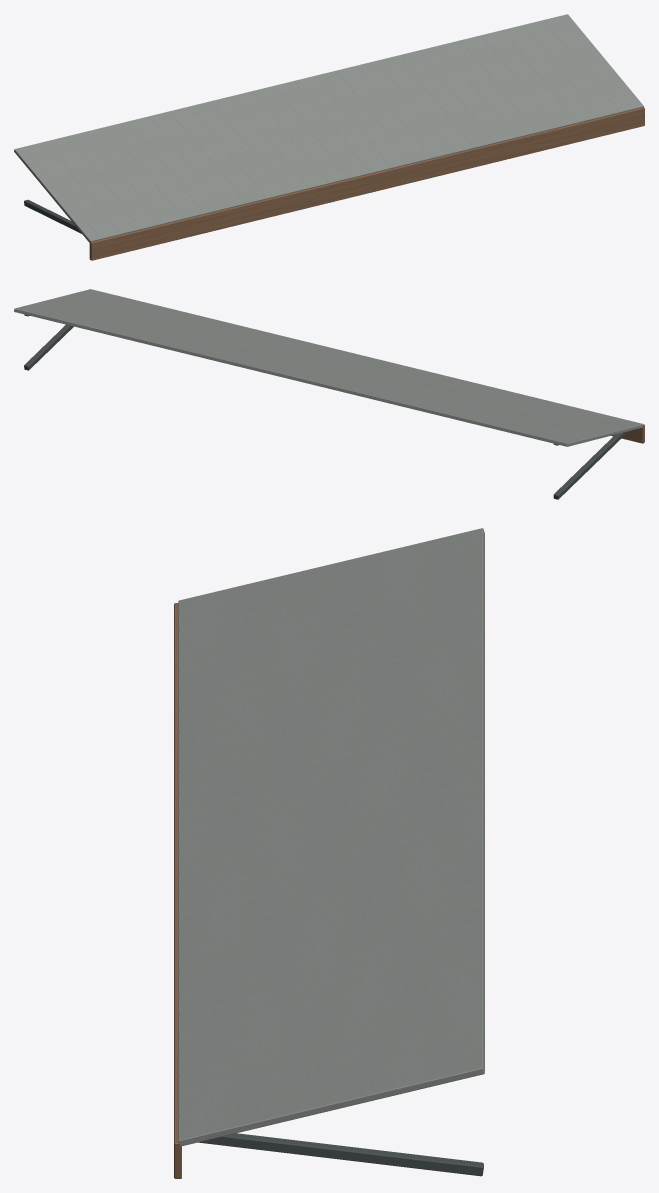
Rendered from D_Awning_Corrugated_visual.glb.
3 views of the same model, one above another, from view 1: azimuth 30°, elevation 25°; view 2: azimuth 150°, elevation 25°; view 3: azimuth 270°, elevation 25° (orthographic). The views are drawn at different scales.
Parts seen in each view (by area): view 1: D_Awning_Corrugated__VIS; view 2: D_Awning_Corrugated__VIS; view 3: D_Awning_Corrugated__VIS.
Part boxes in pixels (x1,y1,x2,y2): D_Awning_Corrugated__VIS: (14, 14, 644, 260); D_Awning_Corrugated__VIS: (14, 289, 644, 499); D_Awning_Corrugated__VIS: (174, 528, 484, 1178).
Size of the model in its own units: 16 by 1.63 by 3.89.
Materials: 1 (1 with a texture image).
